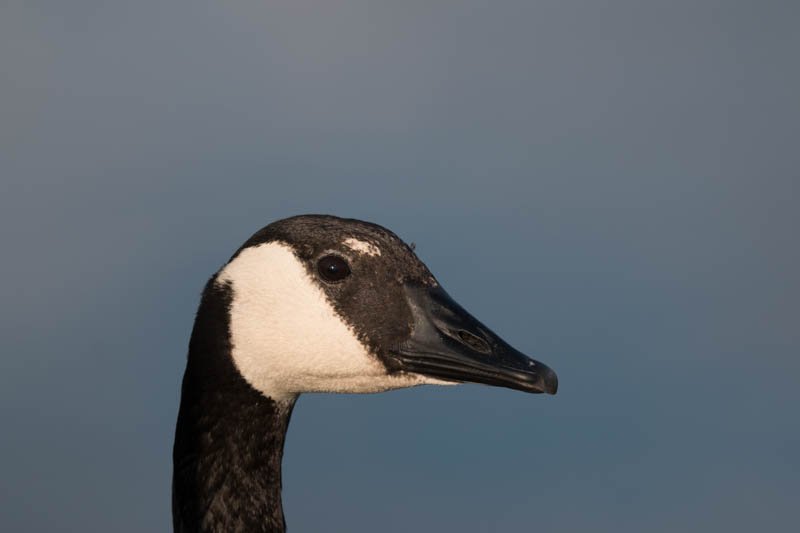goose-head: (190, 214, 557, 407)
